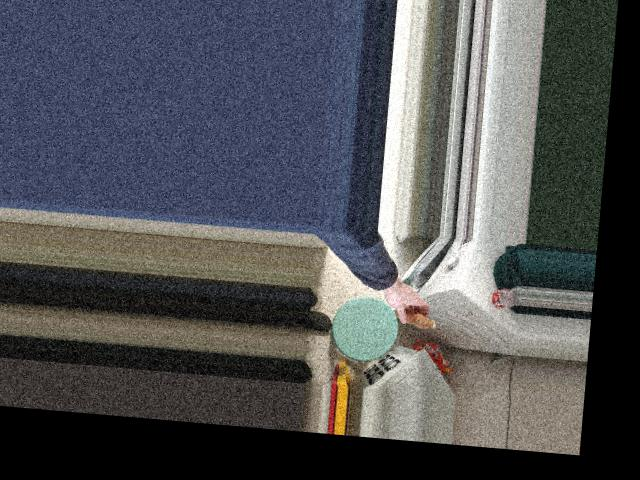sweet_potato: (383, 295, 437, 329)
